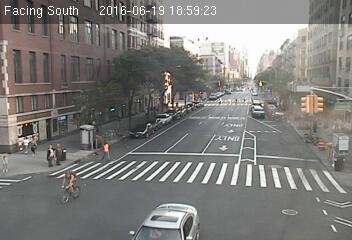neg: (51, 166, 83, 210), (203, 97, 211, 107), (211, 100, 217, 109), (229, 89, 234, 97), (212, 93, 217, 100), (221, 88, 226, 95), (238, 88, 243, 95)
pos: (96, 140, 117, 168), (216, 96, 225, 108), (241, 95, 249, 106), (226, 97, 234, 107), (234, 97, 241, 106)
